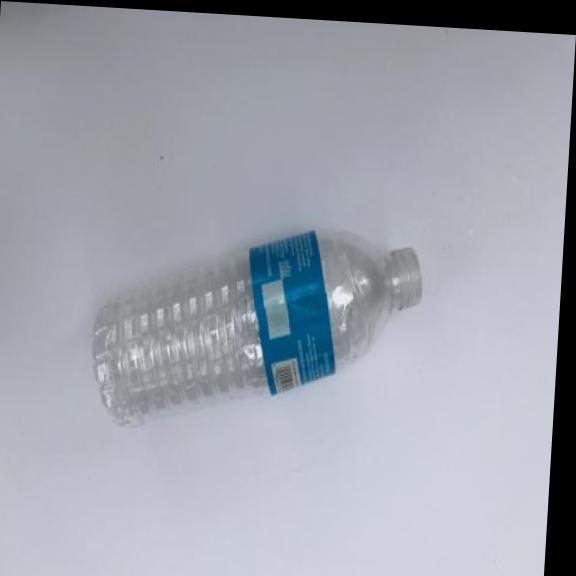Plastik: (82, 209, 429, 451)
